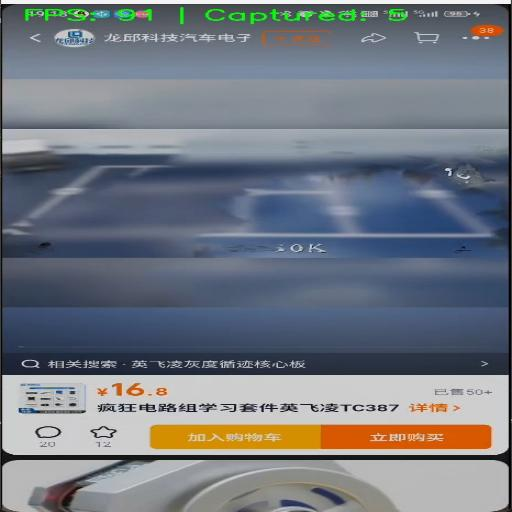back: (10, 27, 54, 50)
butten: (98, 403, 400, 412), (453, 28, 502, 43), (409, 403, 460, 412), (30, 33, 41, 42)
